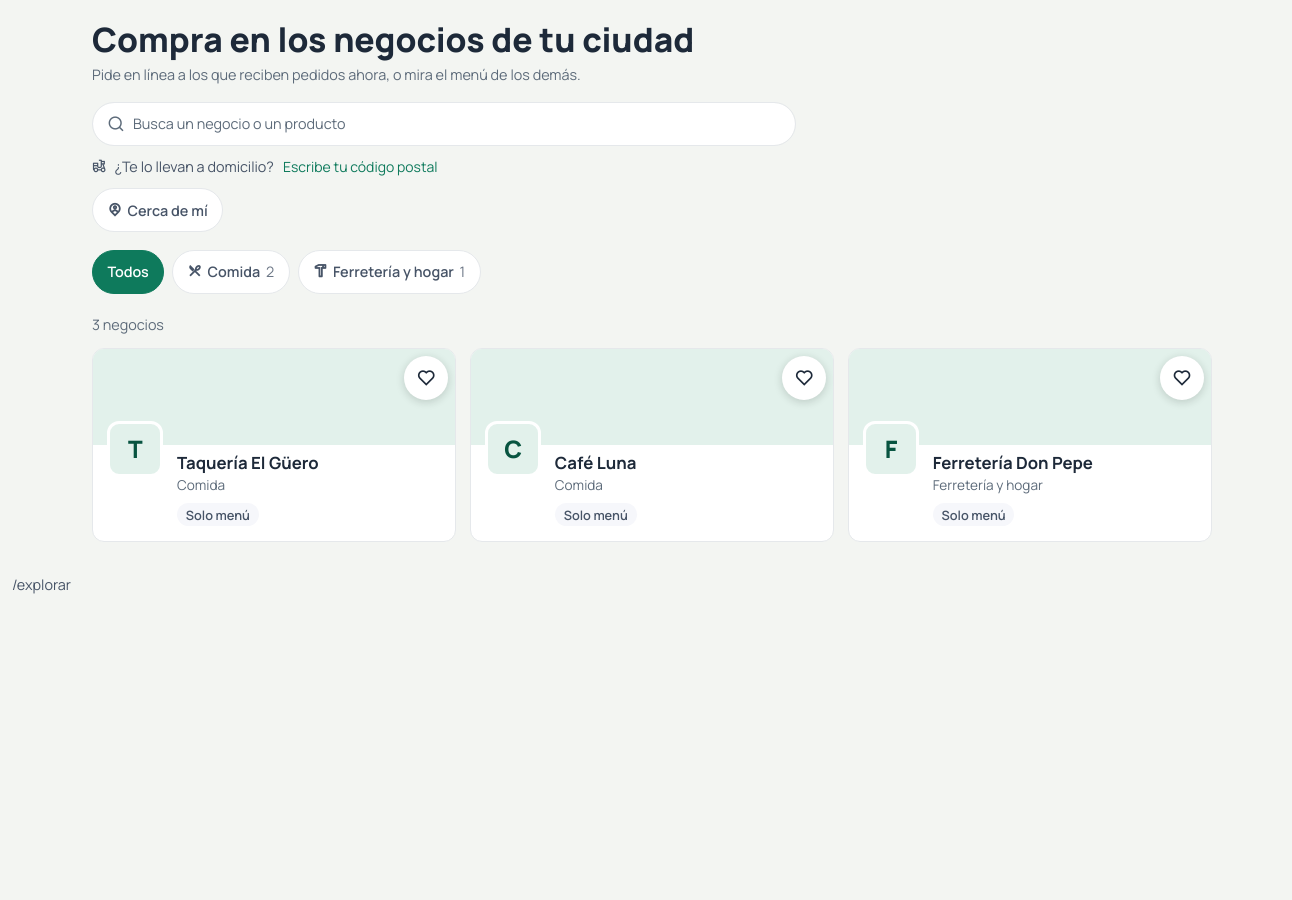
Test: ExplorePage › keeps the focus in the list on the business that takes the place of one kept
// The hearts wait until the favorites arrive.
Click the button named "Guardar Café Luna en tus favoritos" at (804, 378), box x1=782 y1=356 x2=826 y2=400
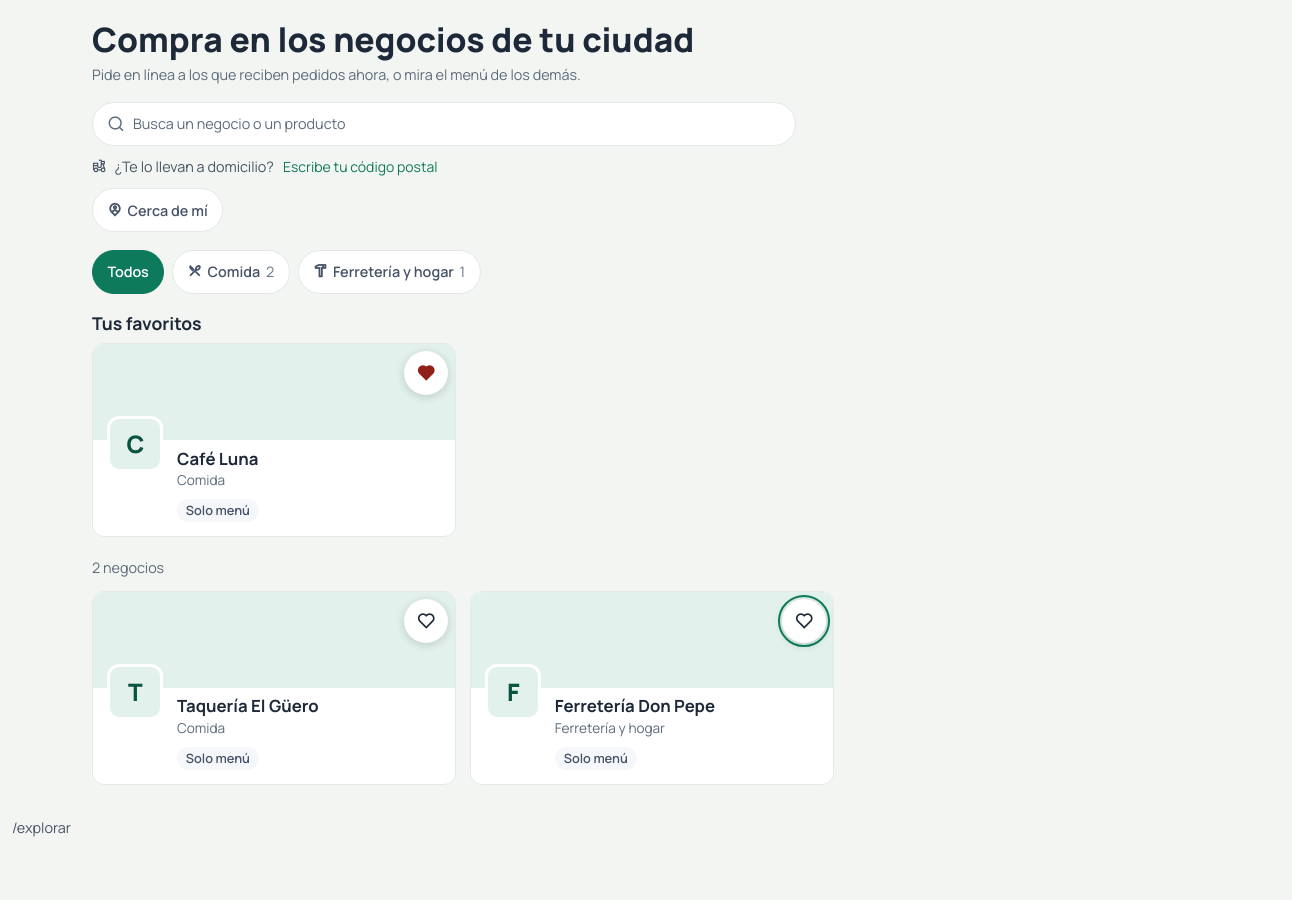
expect the text "2 negocios" is shown: met, box x1=92 y1=558 x2=164 y2=577
